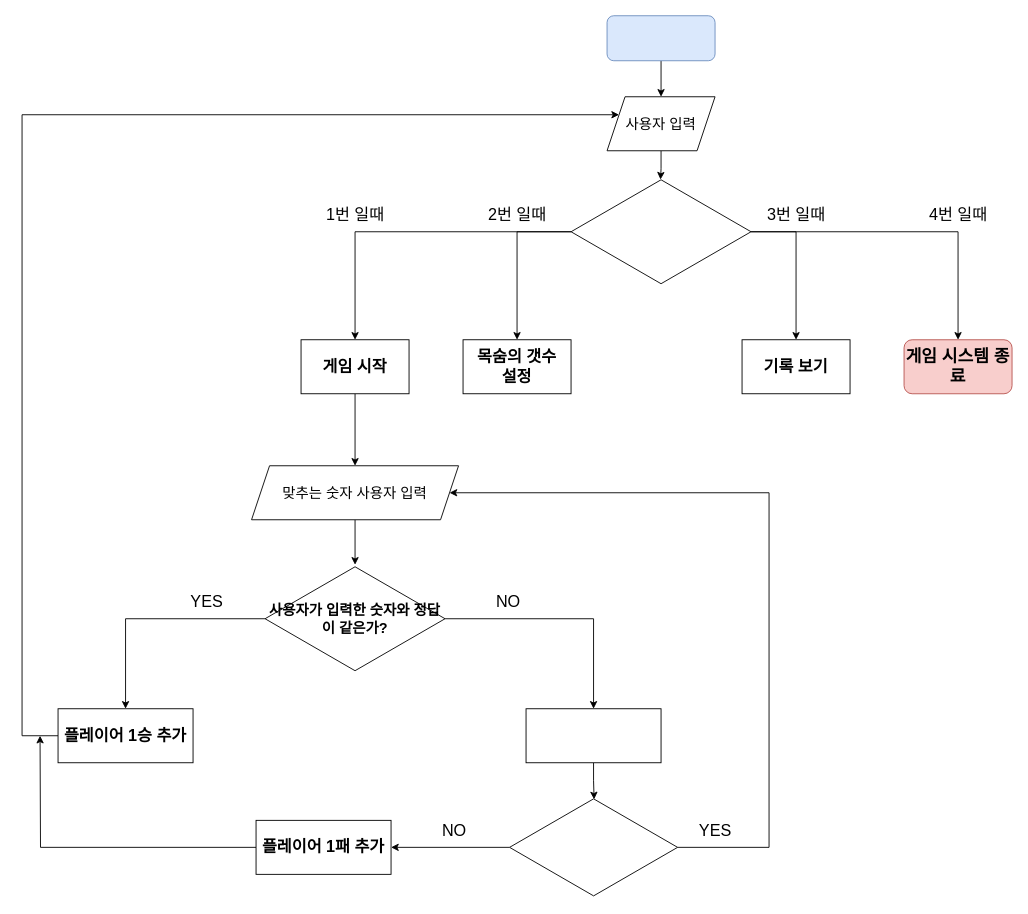
The diagram is 1028 pixels wide and 914 high, and some of its shapes have lost their labels. Each missing label, with the centre of its shape:
게임 시스템 실행: [660,38]
입력 받은 것은 무엇인가?: [660,231]
플레이어 목숨 1 감소: [593,735]
플레이어의 목숨이 0 이상인가?: [593,847]
